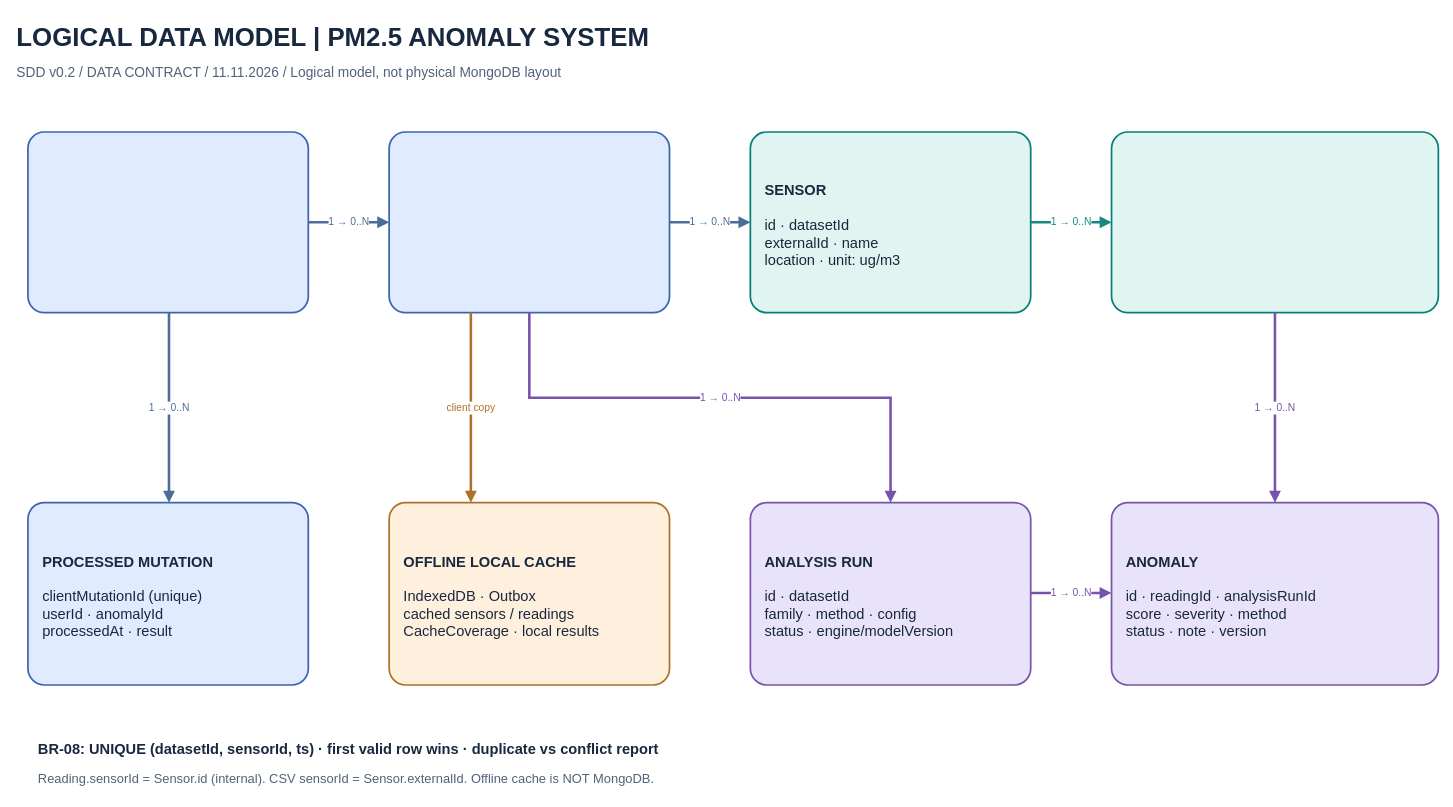
The diagram is 1453 pixels wide and 807 high, and some of its shapes have lost their labels. Each missing label, with the centre of its shape:
"DATASET id · createdBy → User name · sourceFilename status · importSummary" goes at pixel 529 222.
"READING id · datasetId · sensorId ts (UTC) · value ≥ 0 location · unit: ug/m3" goes at pixel 1274 222.
"USER id · username role: analyst / admin isActive · passwordHash*" goes at pixel 168 222.
